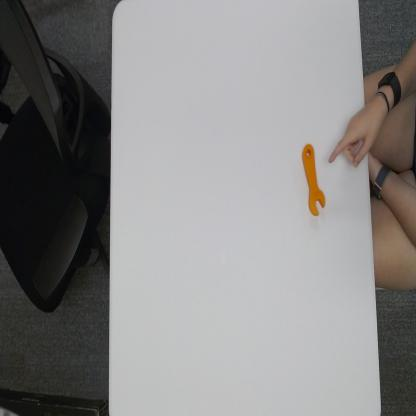Hand: (330, 97, 385, 168)
Screwdriver: (300, 139, 328, 221)
